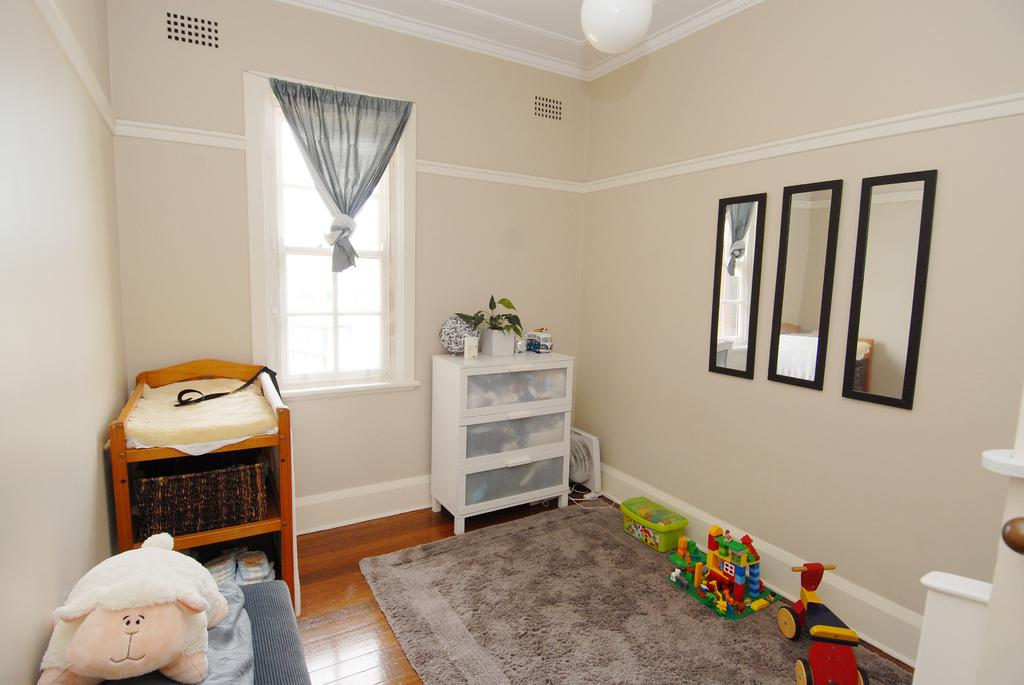cabinet_door: (470, 462, 568, 496), (465, 418, 564, 448), (476, 371, 570, 402)
handle: (503, 455, 537, 473), (507, 358, 537, 376), (509, 408, 537, 427)
